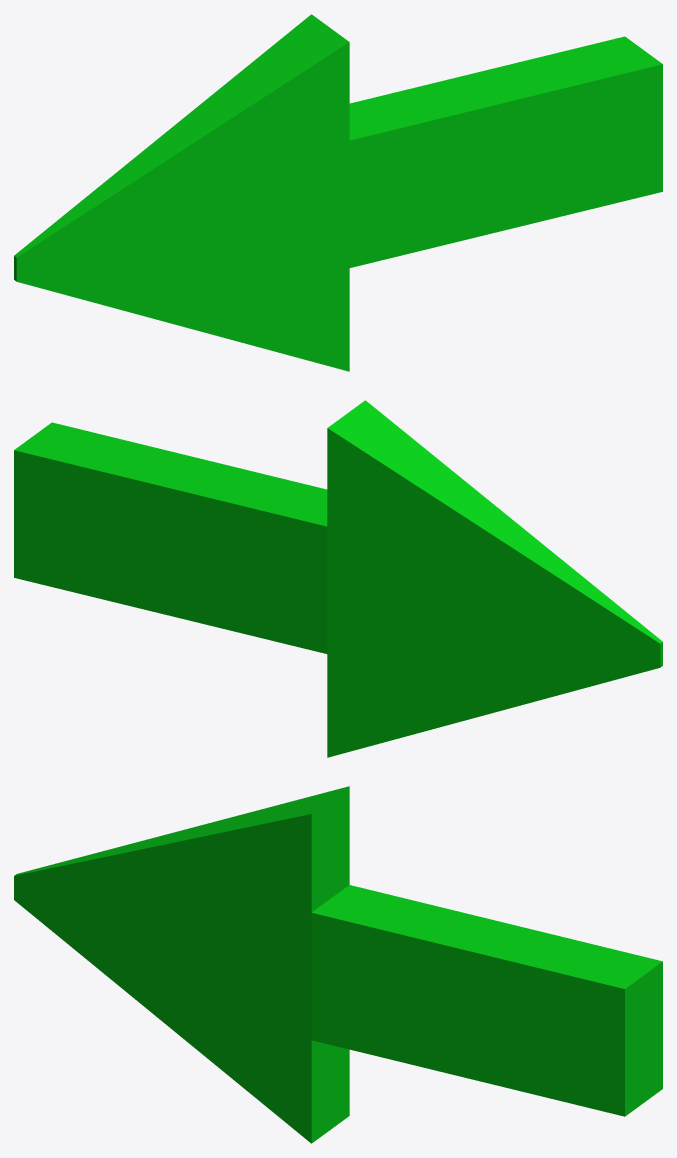
Rendered from Arrow.fbx.
3 views of the same model, one above another, from view 1: azimuth 30°, elevation 25°; view 2: azimuth 150°, elevation 25°; view 3: azimuth 330°, elevation 25° (orthographic).
Parts seen in each view (by area): view 1: Cube; view 2: Cube; view 3: Cube.
Boxes of the visible parts, bbox=[...] form: Cube: bbox=[14, 14, 662, 371]; Cube: bbox=[14, 400, 662, 757]; Cube: bbox=[14, 786, 662, 1143].
Size of the model in its own units: 399 by 200 by 41.75.
